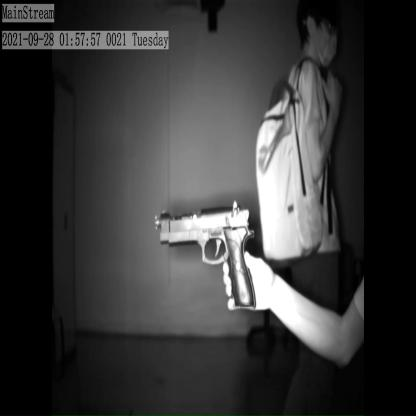weapon: (155, 197, 257, 312)
